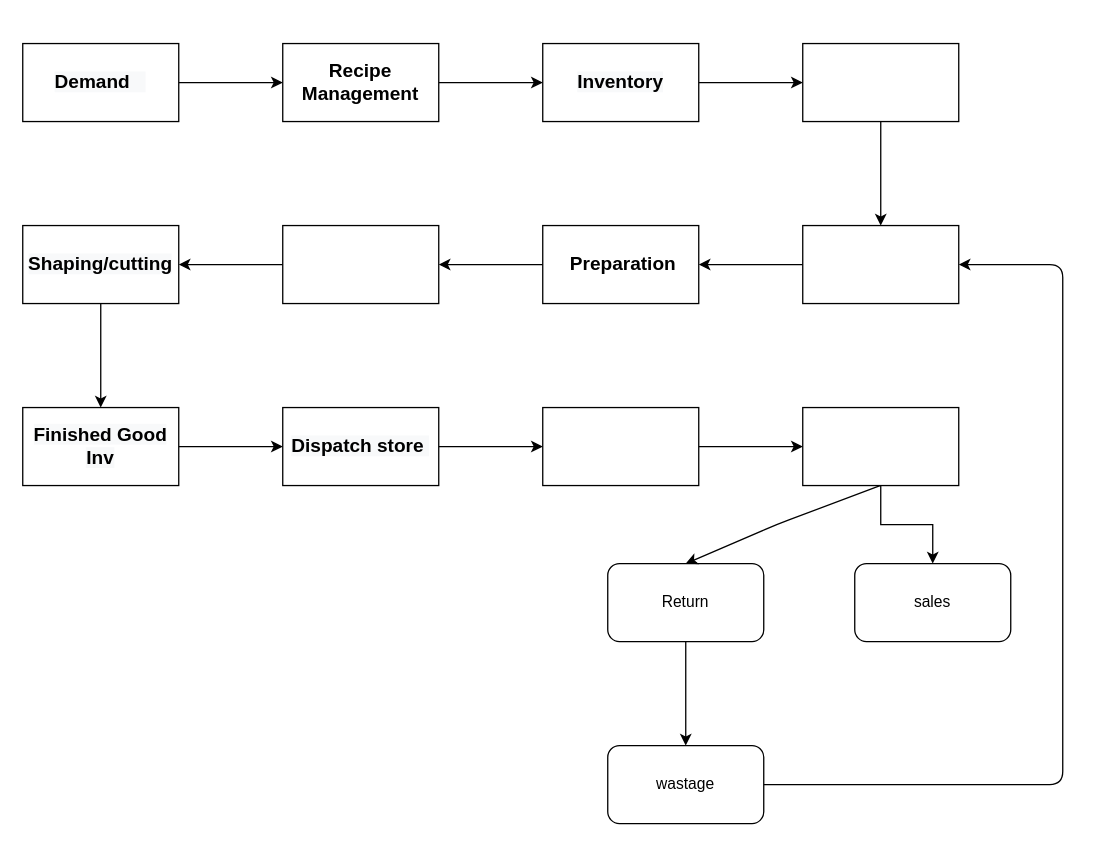
The diagram is 1096 pixels wide and 846 high, and some of its shapes have lost their labels. Each missing label, with the centre of its shape:
"Floor stock" belongs at (880,264).
"Inventory material issue" belongs at (880,82).
"Resting" belongs at (360,264).
"Store" belongs at (880,446).
"vehicle" belongs at (620,446).
